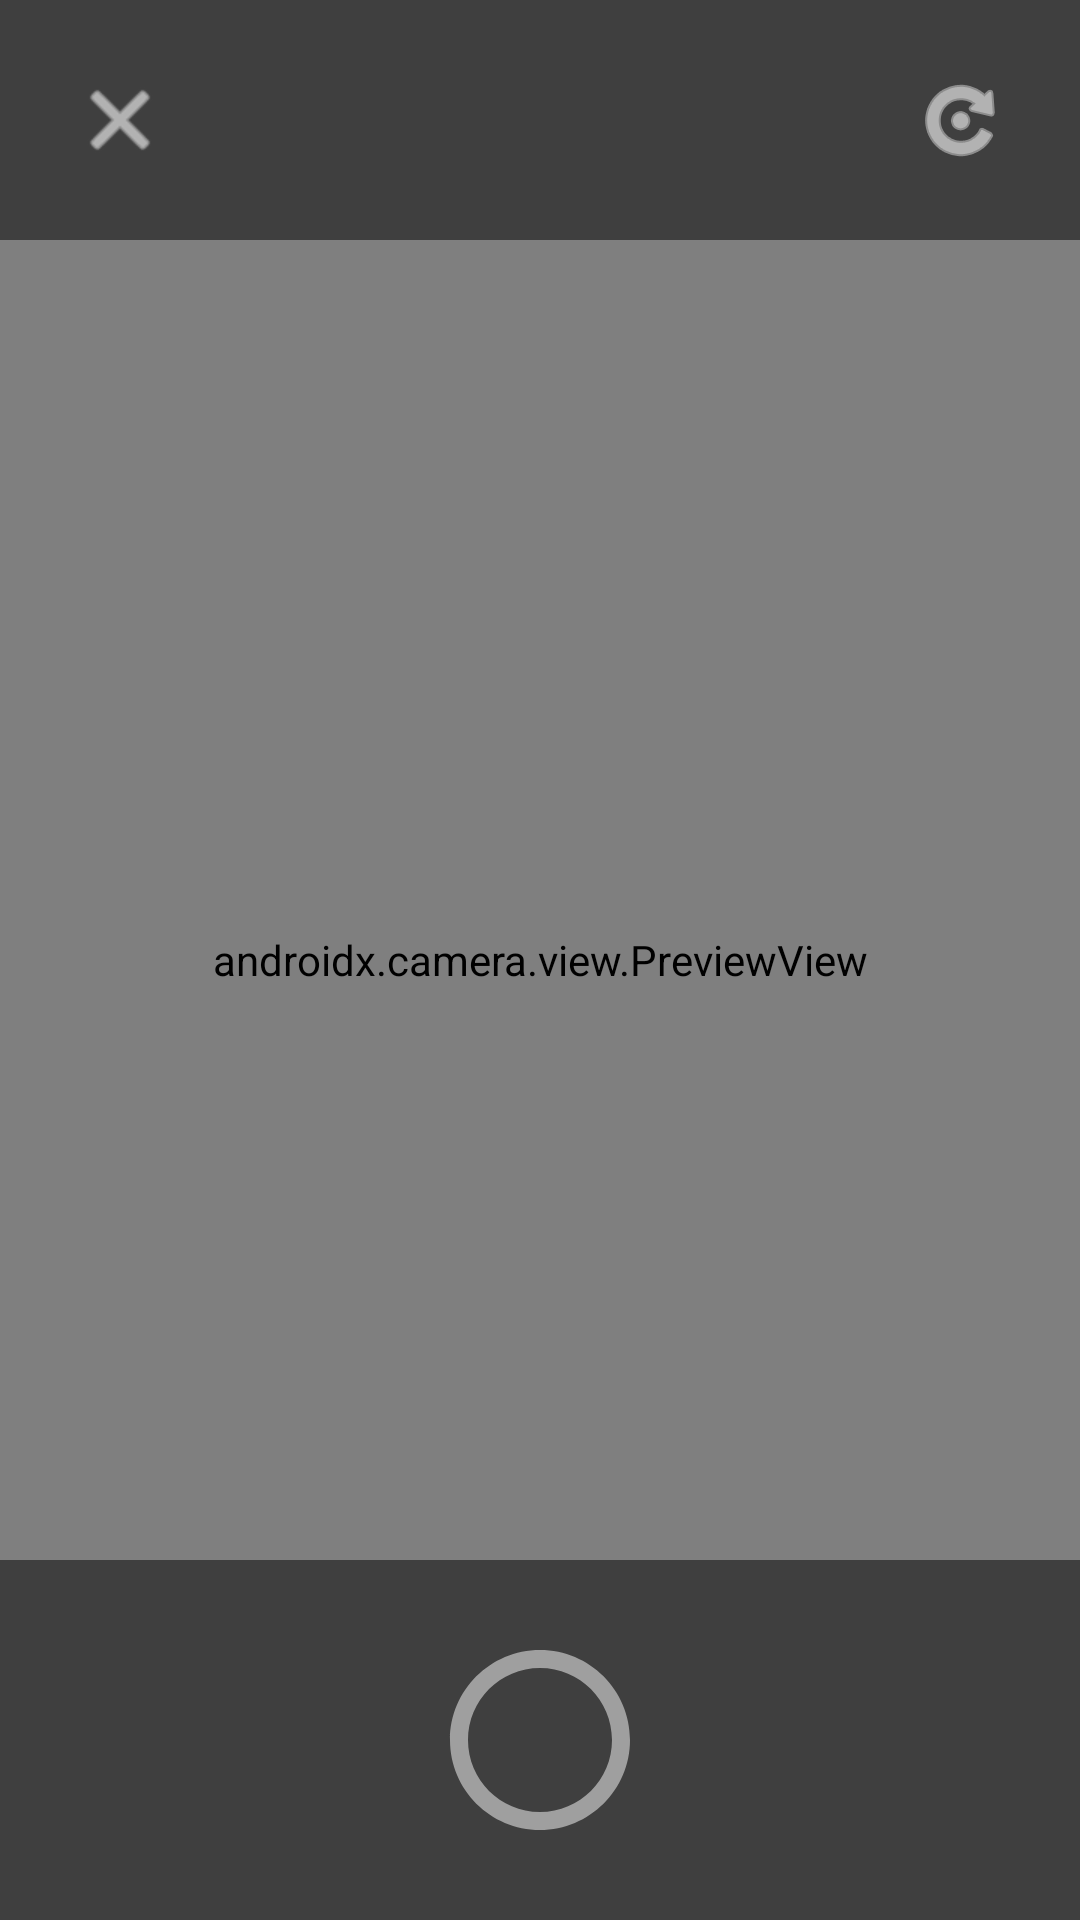

Locate icon controls on the screen. Image size 1080x1920, boxes as (x1, y1, x2, y2).
Capture: (450, 1650, 630, 1830)
close clear cancel: (90, 90, 150, 150)
rotate: (925, 85, 995, 156)
